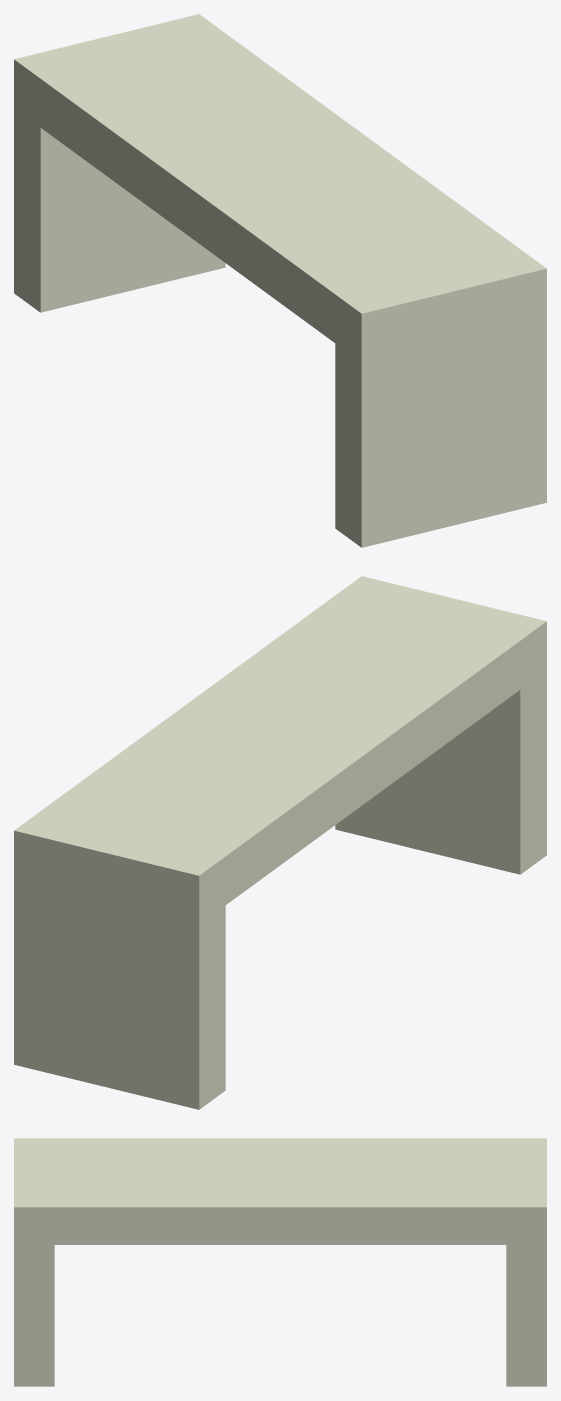
Rendered from BancaBiblioteca.glb.
3 views of the same model, one above another, from view 1: azimuth 30°, elevation 25°; view 2: azimuth 150°, elevation 25°; view 3: azimuth 270°, elevation 25° (orthographic). The views are drawn at different scales.
Parts seen in each view (by area): view 1: Cube.004; view 2: Cube.004; view 3: Cube.004.
Boxes of the visible parts, x1=… form: Cube.004: x1=14, y1=14, x2=546, y2=547; Cube.004: x1=14, y1=576, x2=546, y2=1109; Cube.004: x1=14, y1=1138, x2=546, y2=1386.
Size of the model in its own units: 4 by 4.83 by 13.02.
